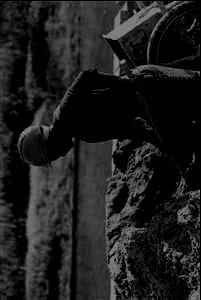helmet: (16, 120, 75, 168)
